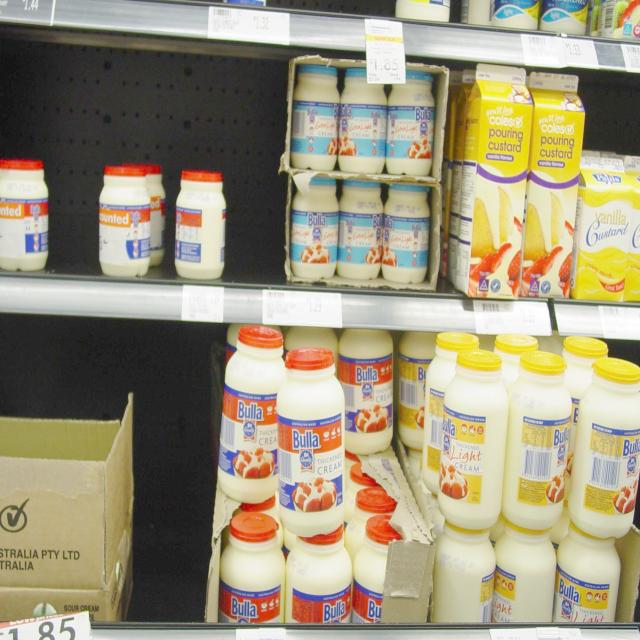empty_space: (144, 352, 206, 609), (18, 343, 130, 401), (57, 158, 91, 270), (243, 168, 273, 280)
